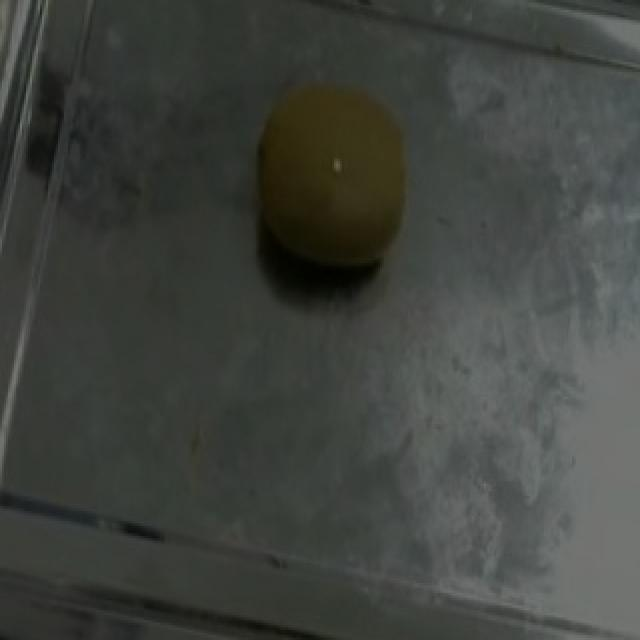Fruit: (218, 50, 448, 310)
